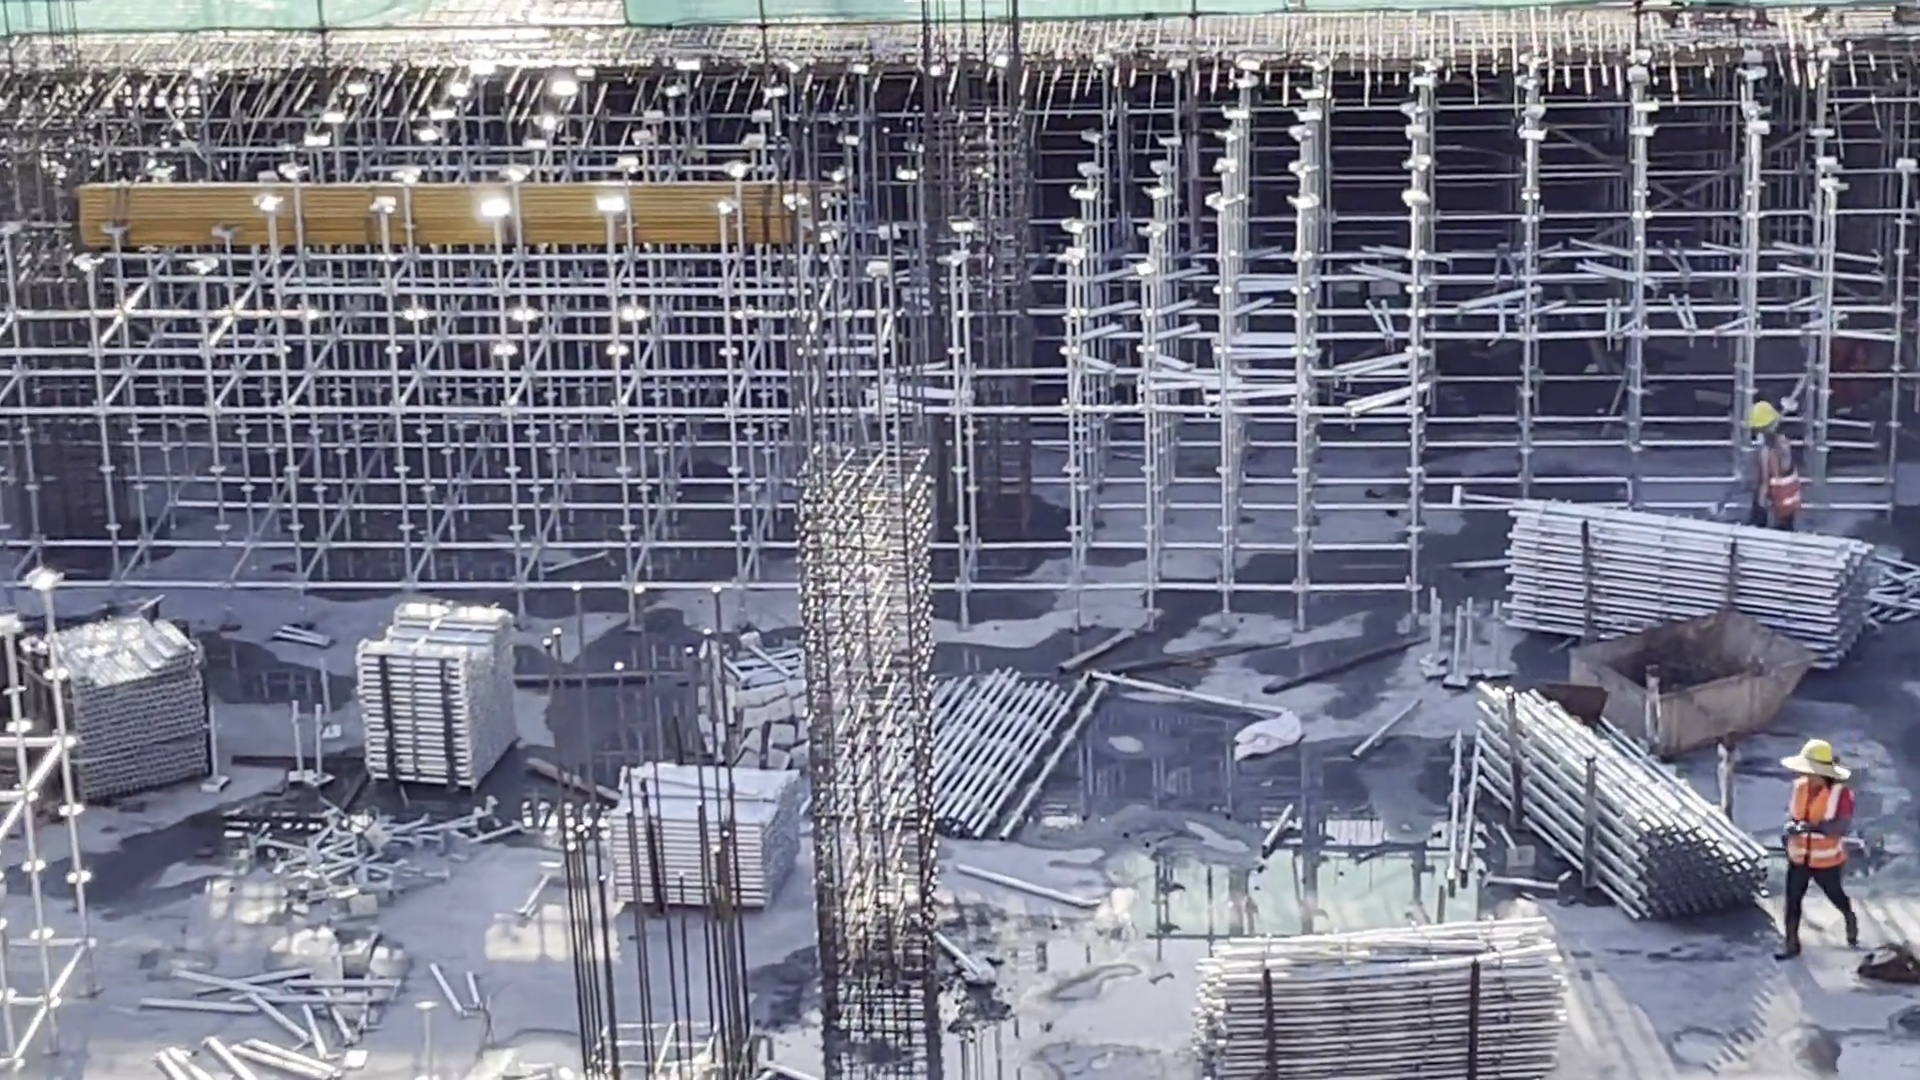helmet: (1798, 731, 1839, 769), (1744, 402, 1782, 433)
hopper: (1598, 615, 1792, 758)
person: (1769, 738, 1871, 967), (1733, 393, 1825, 557)
scaffold: (1203, 919, 1559, 1077), (1492, 701, 1739, 892), (1531, 519, 1840, 655), (839, 672, 1070, 837), (32, 631, 196, 804), (613, 768, 799, 913), (375, 623, 516, 787)
vest: (1777, 784, 1855, 899), (1761, 442, 1815, 518)
